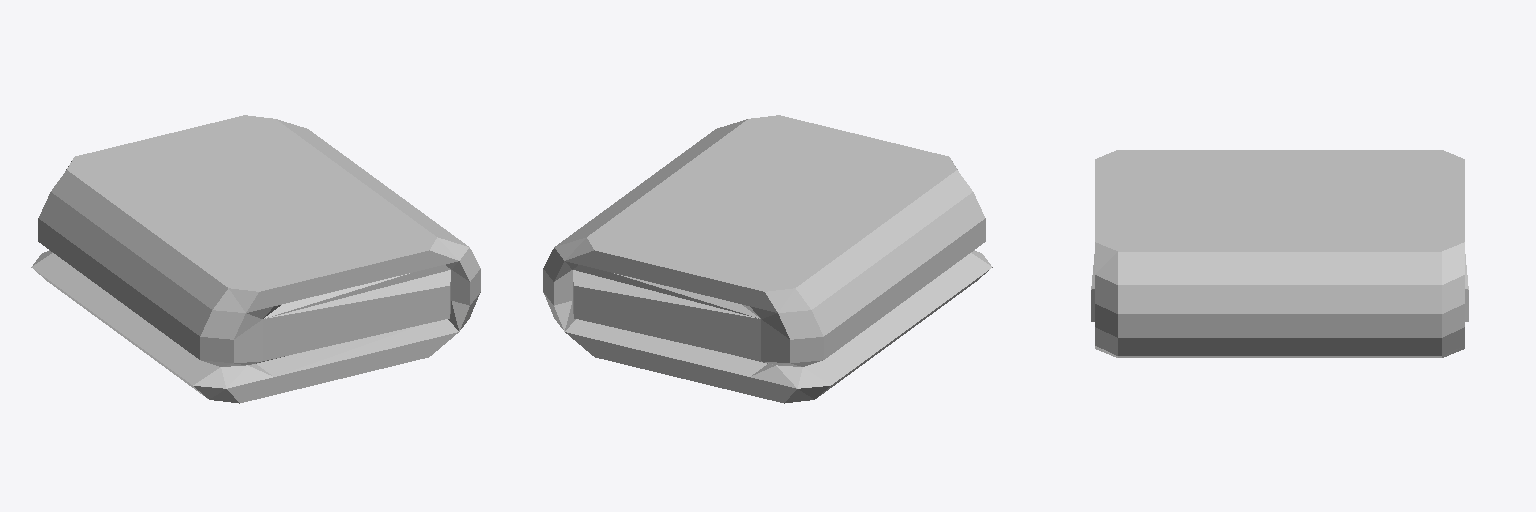
File: Room_301_0_9.obj
The picture shows the model from 3 angles: view 1: azimuth 30°, elevation 25°; view 2: azimuth 150°, elevation 25°; view 3: azimuth 270°, elevation 25°; orthographic projection.
Parts seen in each view (by area): view 1: Towel; view 2: Towel; view 3: Towel.
Boxes of the visible parts, <box> form: Towel: <box>31,115,480,403</box>; Towel: <box>543,115,992,403</box>; Towel: <box>1091,150,1468,357</box>.
Bounding box in the file's own units: 0.4533 × 0.1609 × 0.5154.